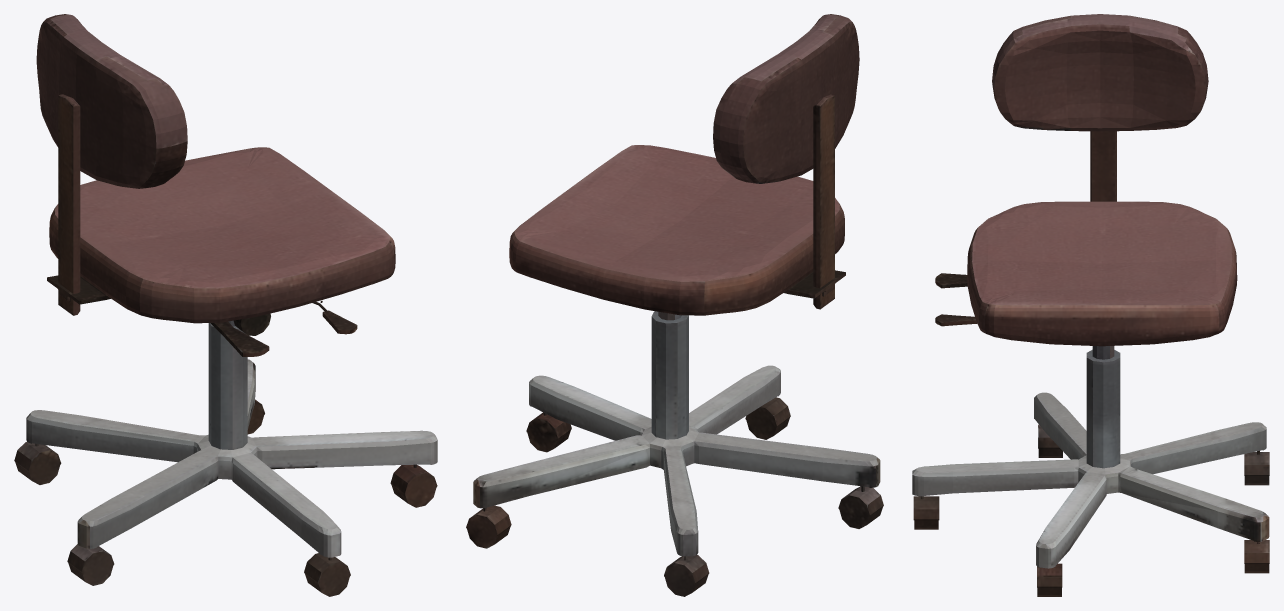
3 views of the same model, side by side, from view 1: azimuth 30°, elevation 25°; view 2: azimuth 150°, elevation 25°; view 3: azimuth 270°, elevation 25° (orthographic). The views are drawn at different scales.
Visible parts, largest first — view 1: Node; view 2: Node; view 3: Node.
Boxes of the visible parts, x1,y1,x2,y2 form: Node: (14,14,437,596); Node: (466,14,883,596); Node: (912,14,1269,596).
Size of the model in its own units: 0.5168 by 0.7 by 0.5035.
Materials: 1 (1 with a texture image).
